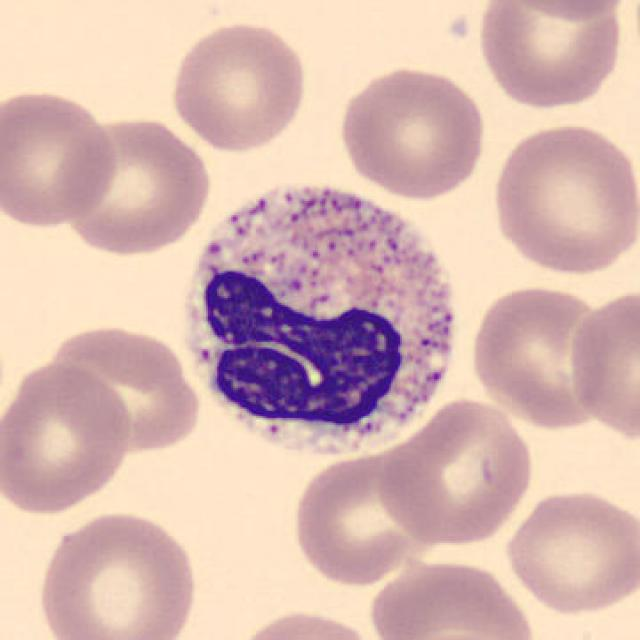Neutrophil: (165, 164, 473, 471)
RBC: (373, 393, 539, 548), (487, 118, 638, 279), (34, 506, 202, 640), (59, 111, 213, 257), (42, 319, 202, 459), (466, 280, 613, 432), (0, 356, 137, 518), (286, 448, 441, 589), (334, 62, 489, 201), (165, 18, 311, 155), (502, 485, 636, 619), (0, 85, 121, 231), (473, 0, 629, 111), (370, 557, 543, 640), (565, 282, 640, 450), (225, 606, 380, 640), (487, 0, 640, 23)
